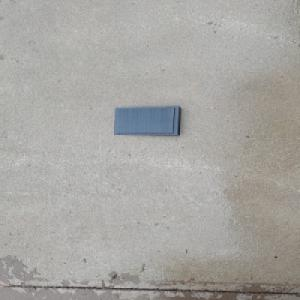PlasticPart: (112, 105, 182, 136)
